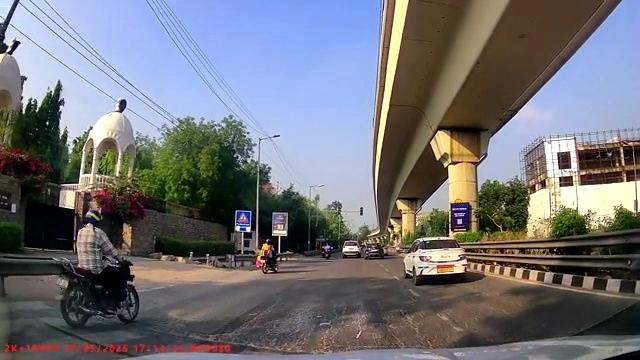motorcycle_with_helmet: (54, 209, 141, 328), (258, 237, 282, 274)
